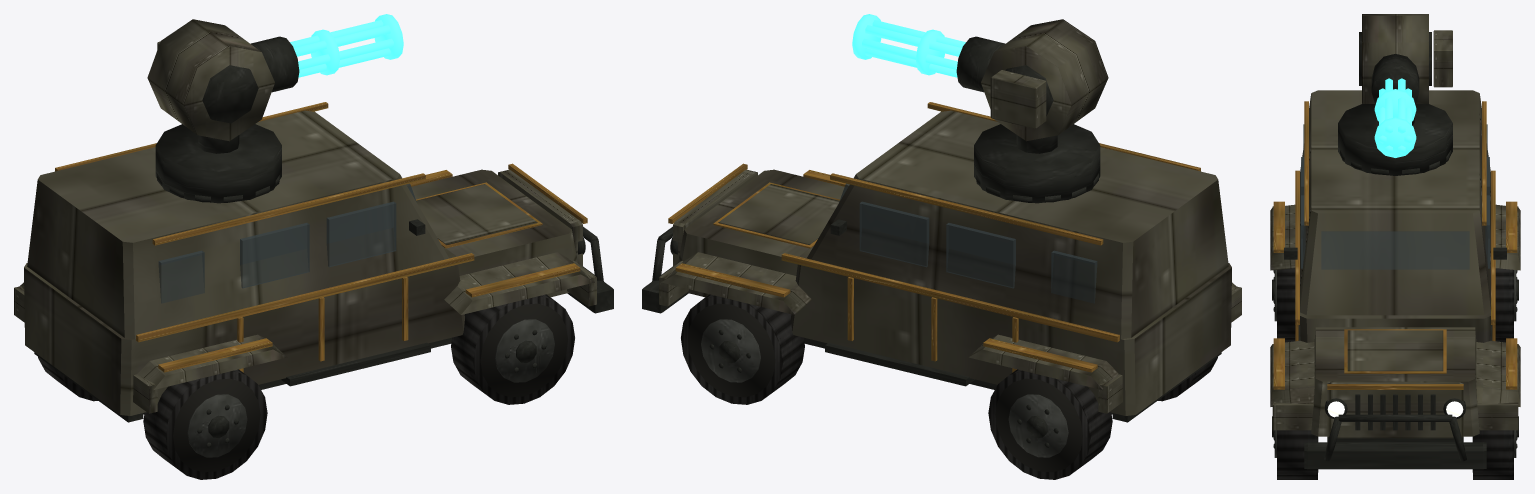
File: unit_warthog_2.glb
3 renders of one model, left to right at view 1: azimuth 30°, elevation 25°; view 2: azimuth 150°, elevation 25°; view 3: azimuth 270°, elevation 25°, orthographic. The views are drawn at different scales.
Parts seen in each view (by area): view 1: unit_warthog_2; view 2: unit_warthog_2; view 3: unit_warthog_2.
Part boxes in pixels (x1,y1,x2,y2): unit_warthog_2: (14, 14, 613, 479); unit_warthog_2: (642, 14, 1241, 479); unit_warthog_2: (1270, 14, 1520, 479).
Size of the model in its own units: 4.6 by 3.41 by 2.22.
9 materials, 5 textured.
